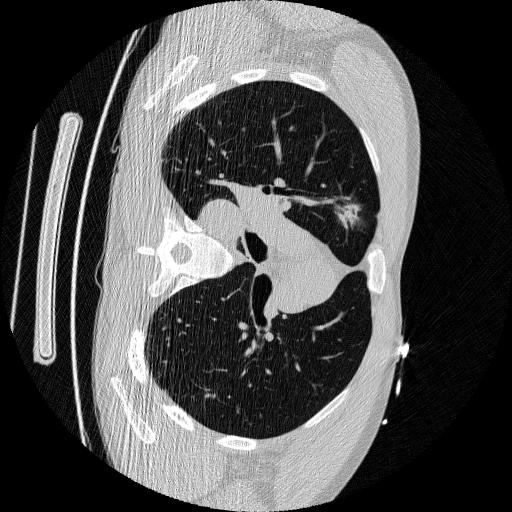nodule: (331, 192, 370, 231)
